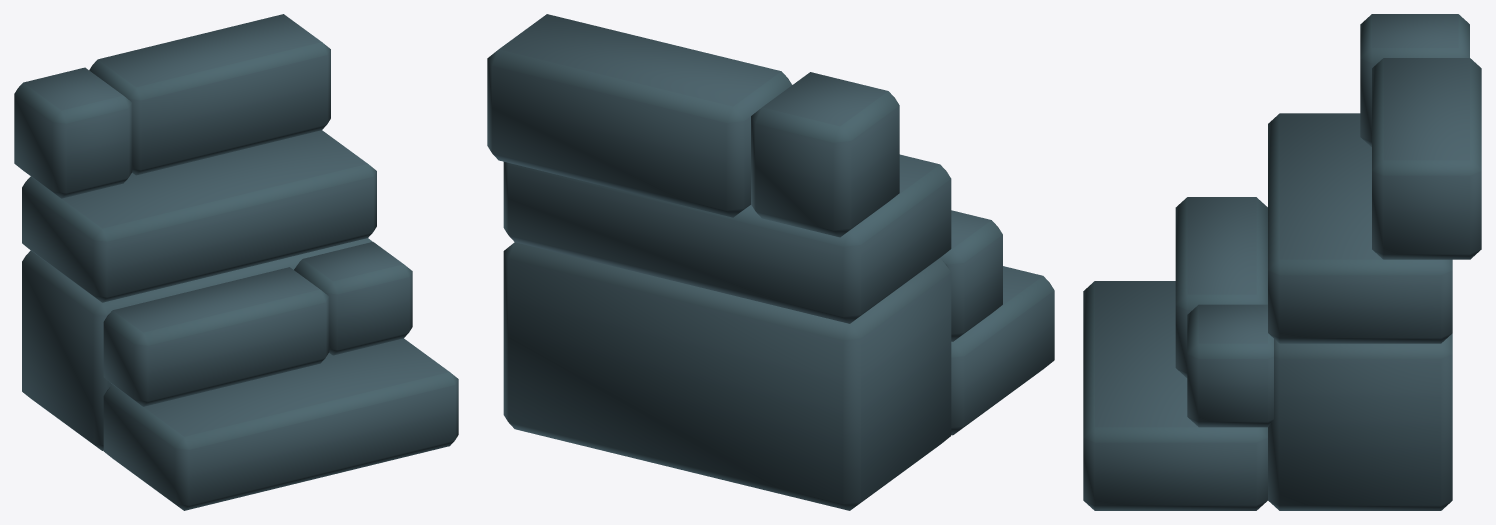
File: stair_straight_2_hue_2.fbx
3 views of the same model, side by side, from view 1: azimuth 30°, elevation 25°; view 2: azimuth 150°, elevation 25°; view 3: azimuth 270°, elevation 25° (orthographic). The views are drawn at different scales.
Parts seen in each view (by area): view 1: stair_straight_2_hue_2; view 2: stair_straight_2_hue_2; view 3: stair_straight_2_hue_2.
Boxes of the visible parts, x1,y1,x2,y2 form: stair_straight_2_hue_2: (14, 14, 458, 510); stair_straight_2_hue_2: (487, 14, 1054, 510); stair_straight_2_hue_2: (1083, 14, 1481, 510).
Bounding box in the file's own units: 100 × 105 × 108.
